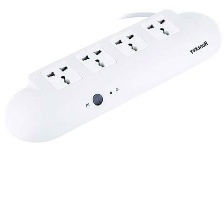three_eye_plug: (2, 7, 224, 146)
